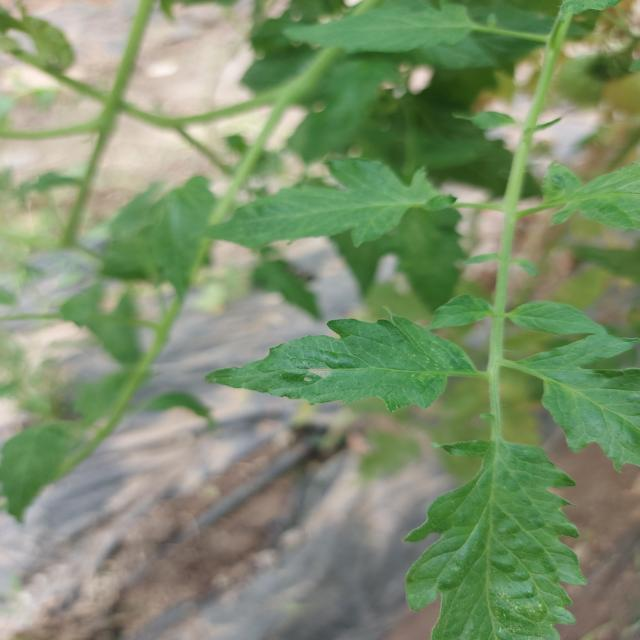Healthy: (205, 126, 445, 304), (405, 439, 585, 638), (502, 325, 640, 493)
